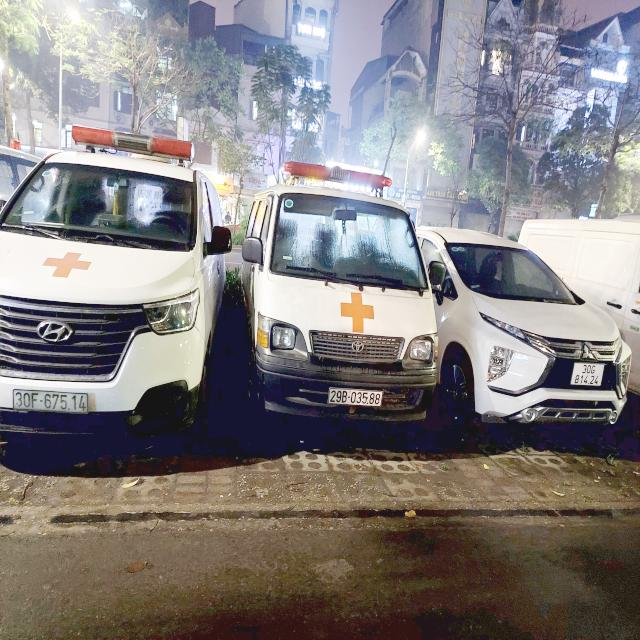license_plate: (12, 386, 92, 416), (329, 387, 385, 411), (570, 361, 608, 390)
